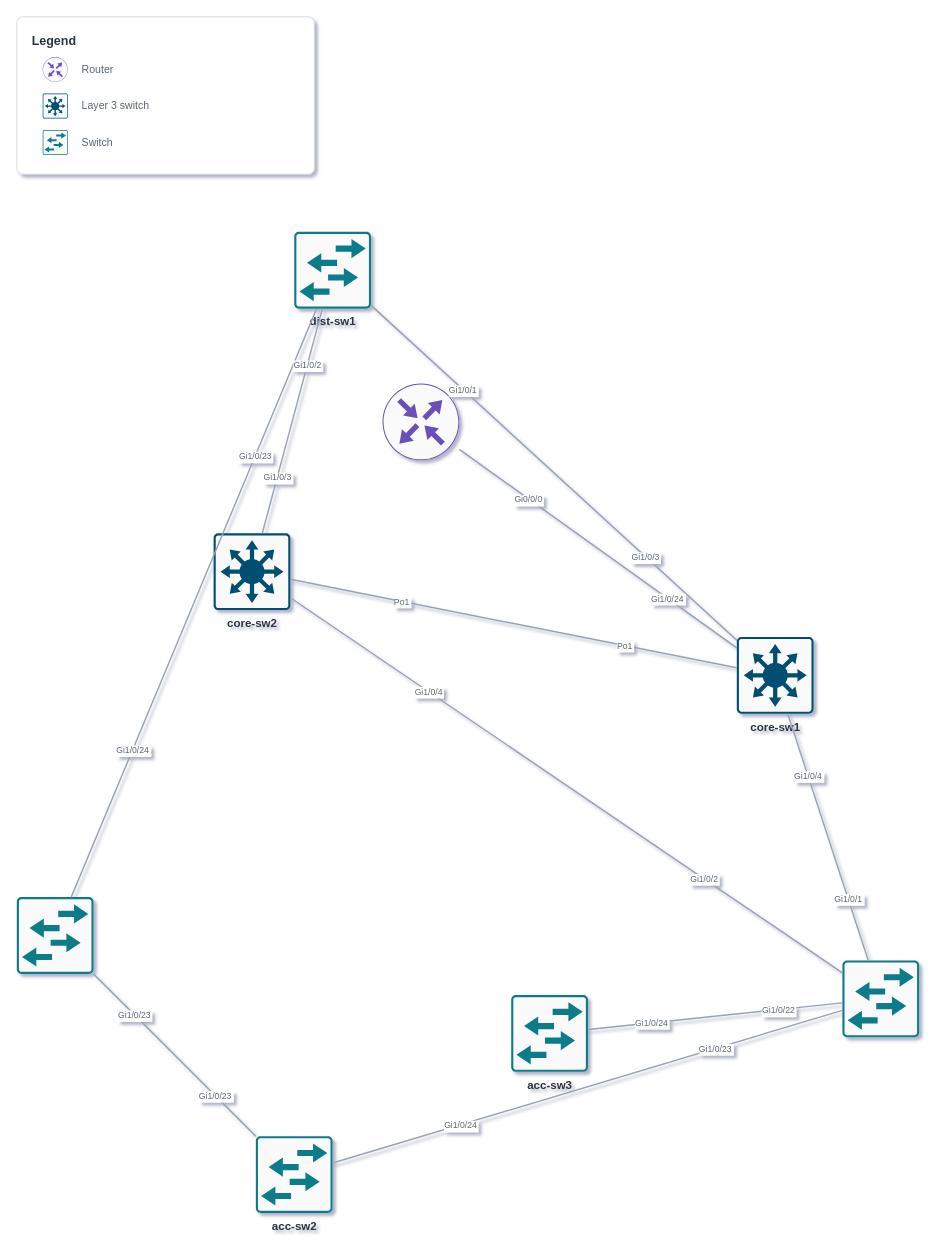
Image size: 942x1256. Some labels were removed from this diagram. Each missing label, with the centre of its shape:
"acc-sw1" goes at (55,935).
"dist-sw2" goes at (880,998).
"edge-rtr" goes at (420,421).
